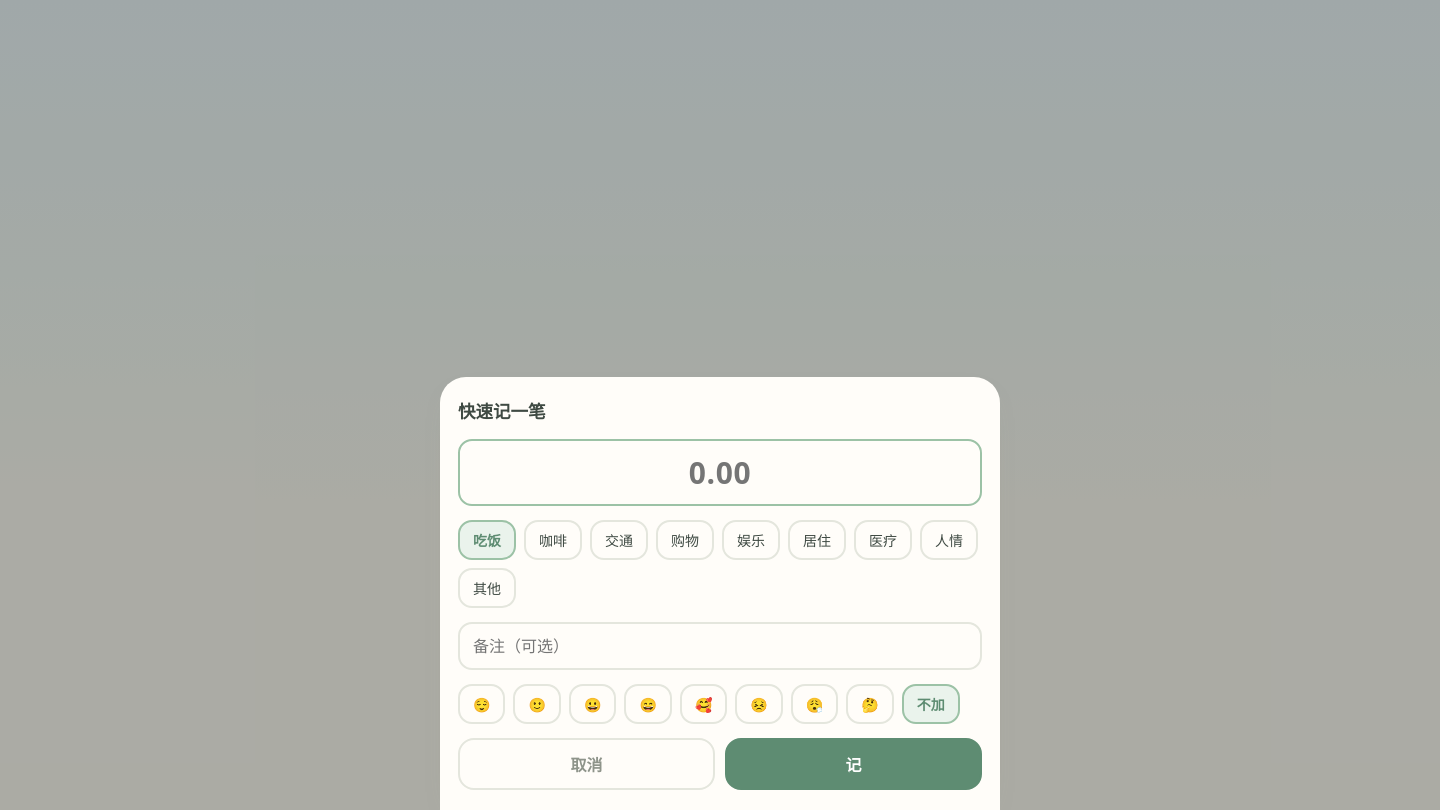
Test: 悬浮速记 QuickAddModal › 空金额不入库且保持打开
Expected: the field with placeholder "0.00" is shown, [458, 439, 982, 506]
Click the button "记" at (854, 764), box [725, 738, 982, 790]
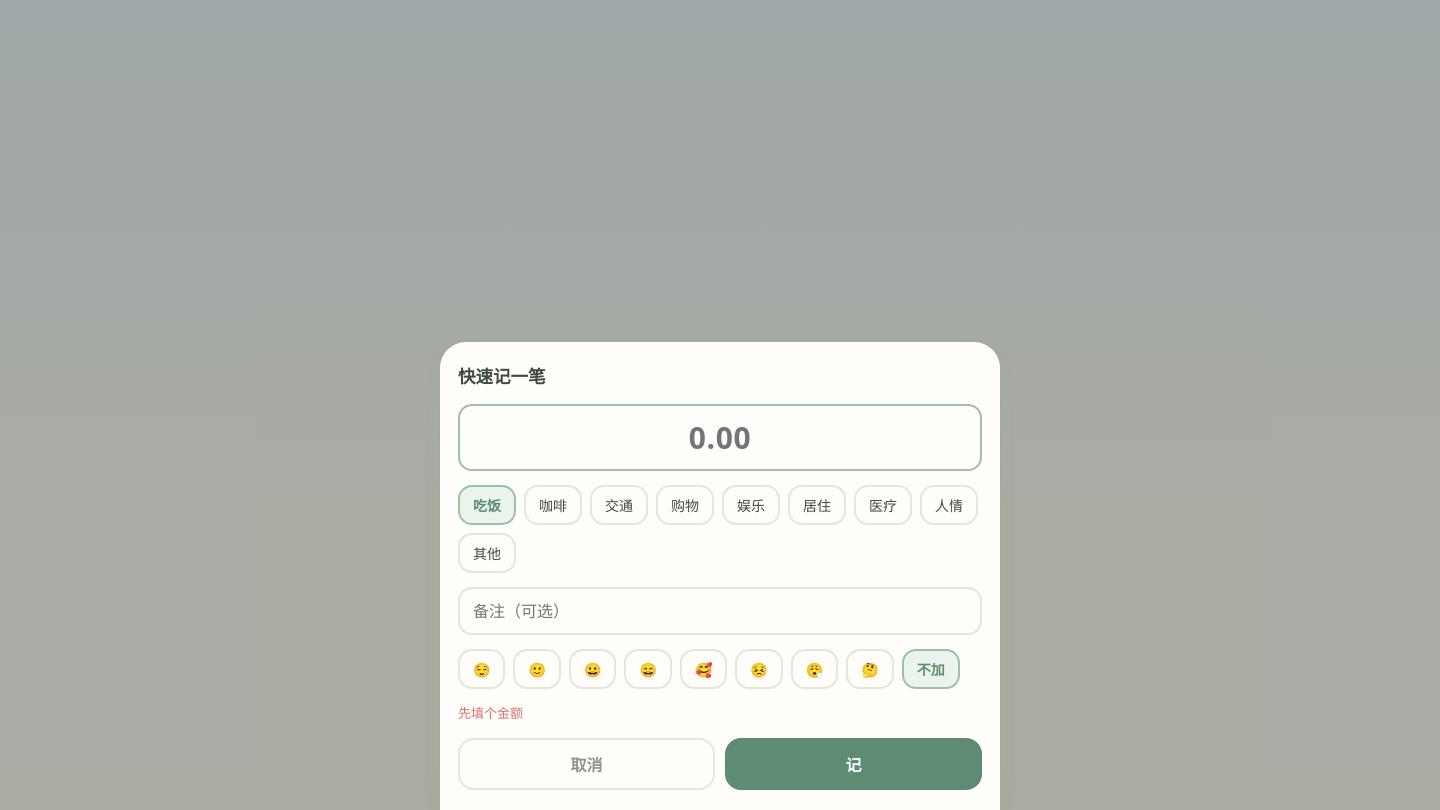
Expected: the text "先填个金额" is shown, [458, 704, 523, 722]
